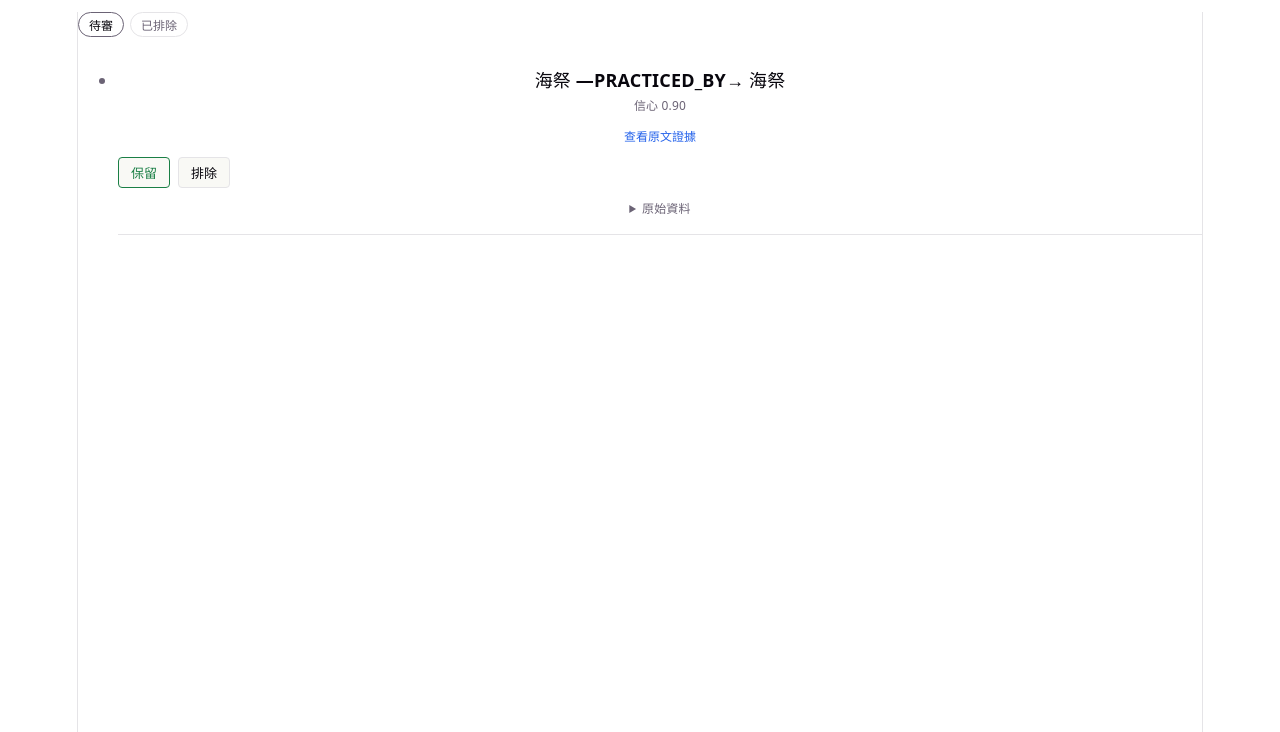
Test: RelationReview › keeps stale rows LOCKED when the post-decision refetch fails (Codex #108 P1)
Click the button "保留" at (144, 173), box [118,157,170,188]
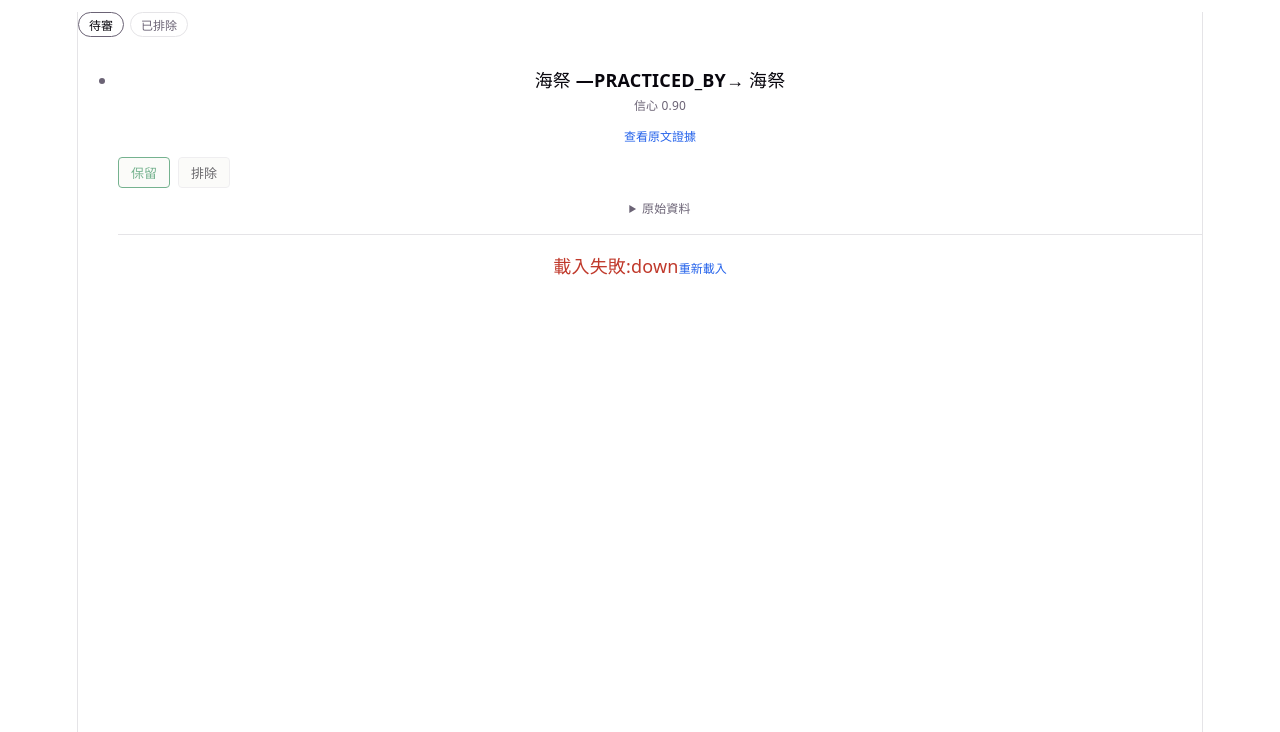
Check: the text "載入失敗:down 重新載入" is shown, box [553,254,727,278]
Check: the button "保留" is disabled, box [118,157,170,188]
Check: the button "排除" is disabled, box [178,157,230,188]
